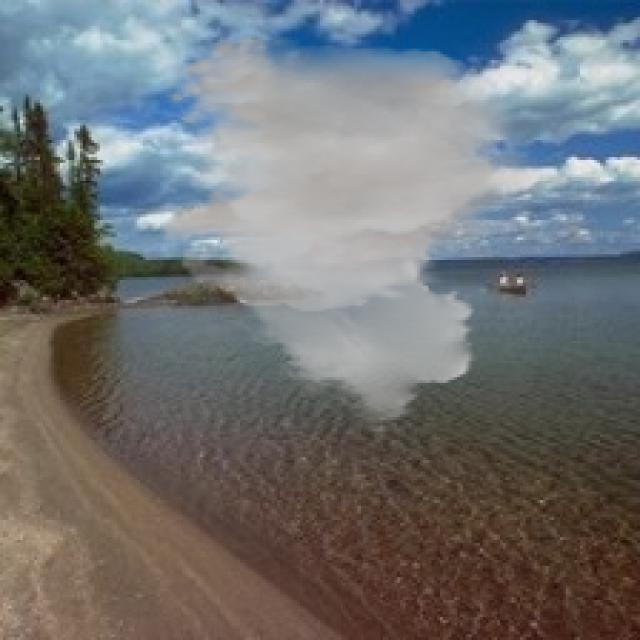smoke: (160, 34, 560, 434)
